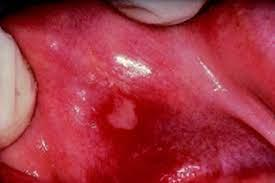Ulcer: (100, 80, 149, 134)
